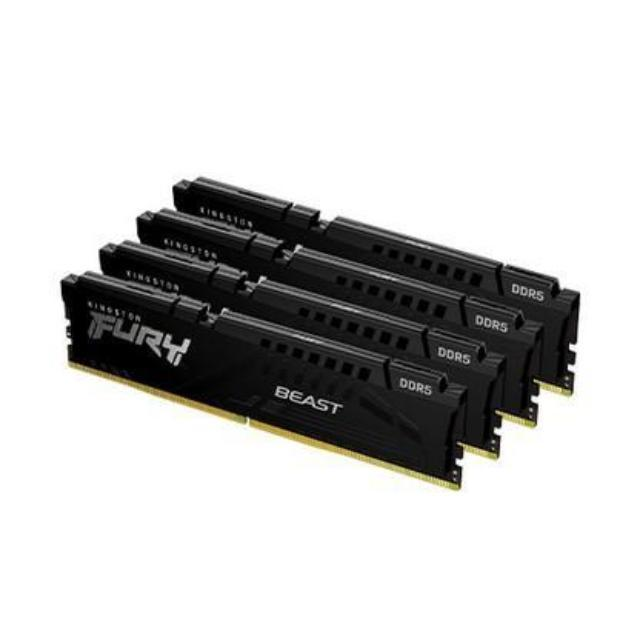RAM: (50, 168, 595, 492)
